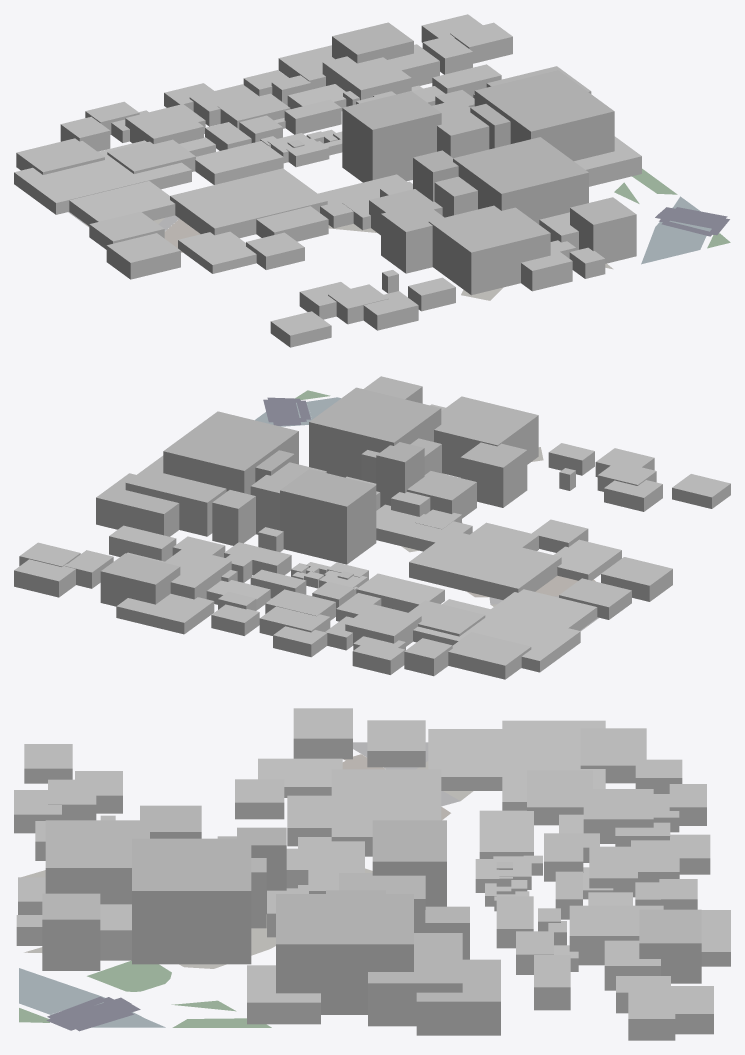
Rendered from 117_98_mid.glb.
The picture shows the model from 3 angles, top to bottom: view 1: azimuth 30°, elevation 25°; view 2: azimuth 150°, elevation 25°; view 3: azimuth 270°, elevation 25°; orthographic projection. The views are drawn at different scales.
Bounding box in the file's own units: 545 × 60.41 × 532.
